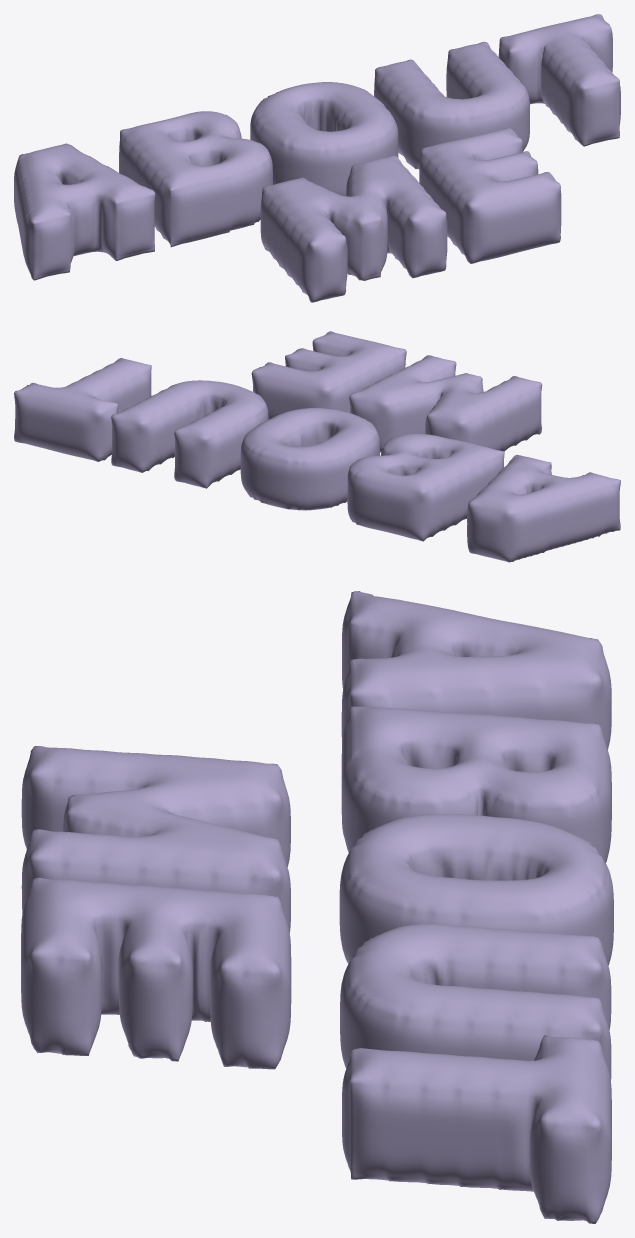
Rendered from aboutme.glb.
3 renders of one model, top to bottom at view 1: azimuth 30°, elevation 25°; view 2: azimuth 150°, elevation 25°; view 3: azimuth 270°, elevation 25°, orthographic. The views are drawn at different scales.
Visible parts, largest first — view 1: Text.001; view 2: Text.001; view 3: Text.001.
Boxes of the visible parts, left/top/right/bottom form: Text.001: left=14, top=14, right=620, bottom=302; Text.001: left=14, top=331, right=620, bottom=562; Text.001: left=21, top=591, right=613, bottom=1223.
Size of the model in its own units: 2.37 by 0.2484 by 1.11.
